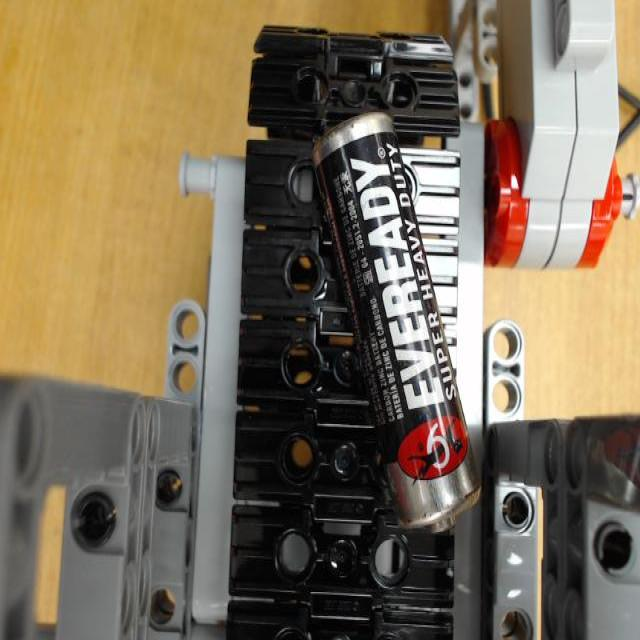AA: (310, 118, 482, 538)
